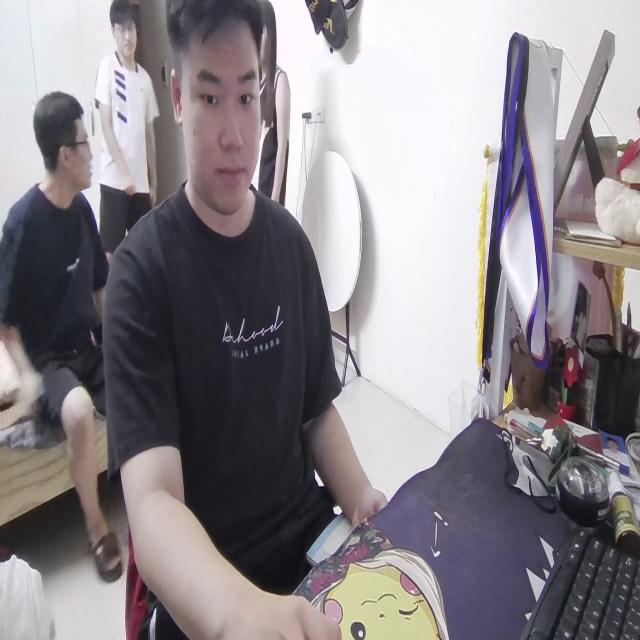extra_person: (3, 94, 121, 556), (95, 8, 156, 229), (254, 0, 292, 207)
student: (107, 0, 391, 640)
